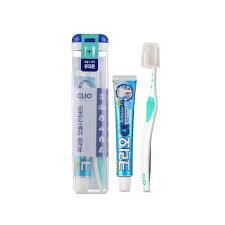toothpaste: (110, 73, 141, 195)
